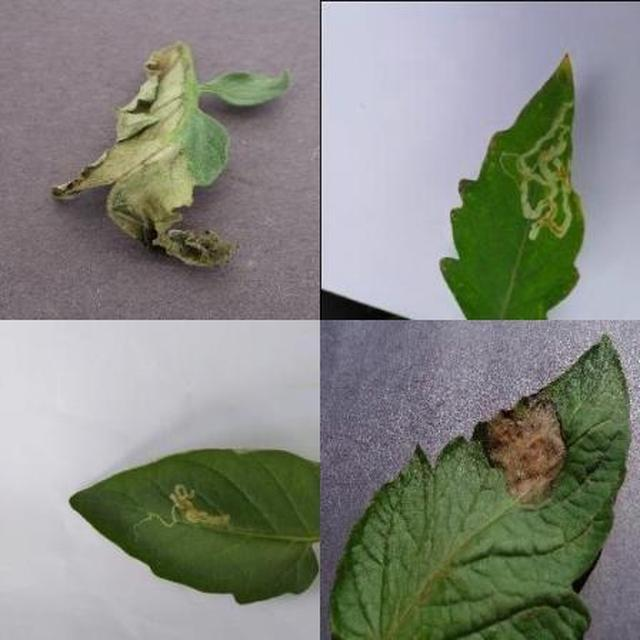Late Blight Leaf: (210, 228, 640, 640)
